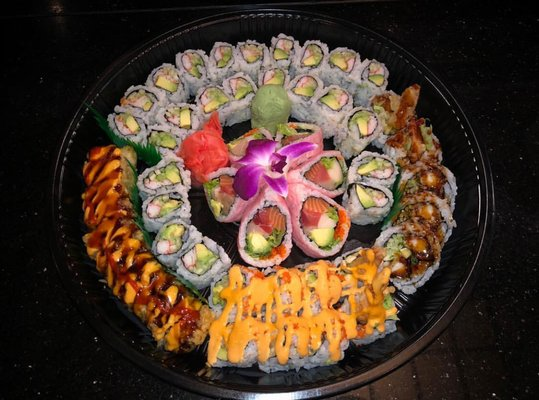sandwich: (77, 30, 466, 364)
